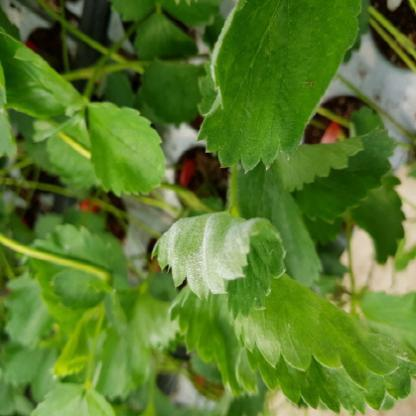Strawberry_Powdery_Mildew_Leaf: (194, 0, 362, 173), (150, 211, 288, 321)
